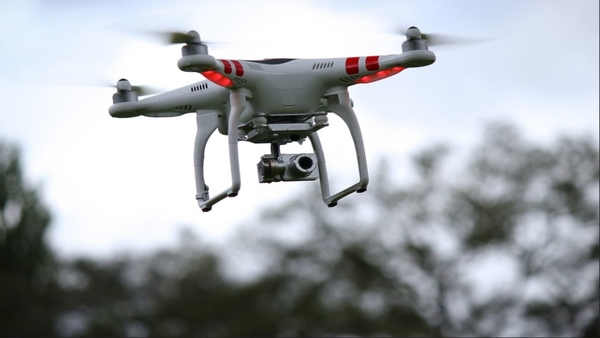drone: (100, 25, 442, 215)
